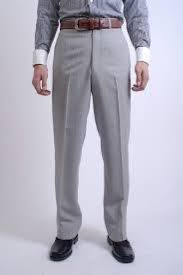F_belt: (53, 13, 130, 35)
